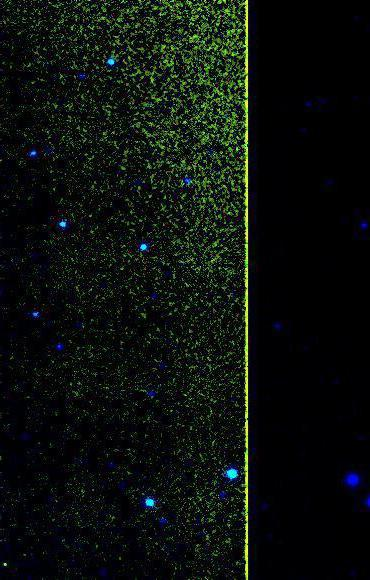star: (0, 549, 21, 579)
